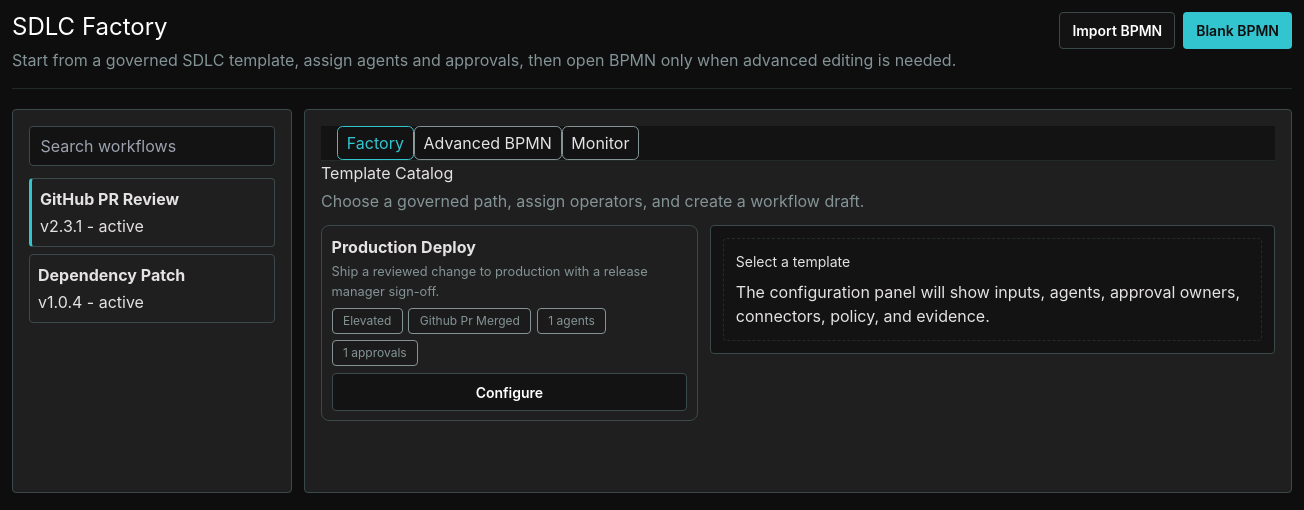
Test case: WorkflowDesigner integration › renders workflows and filters by search query
Check: the heading "SDLC Factory" is shown, box [12, 12, 168, 41]
Check: the text "GitHub PR Review" is shown, box [40, 189, 179, 209]
Type "dependency" into the search field with placeholder "Search workflows" at point(152, 146), box [29, 126, 275, 166]
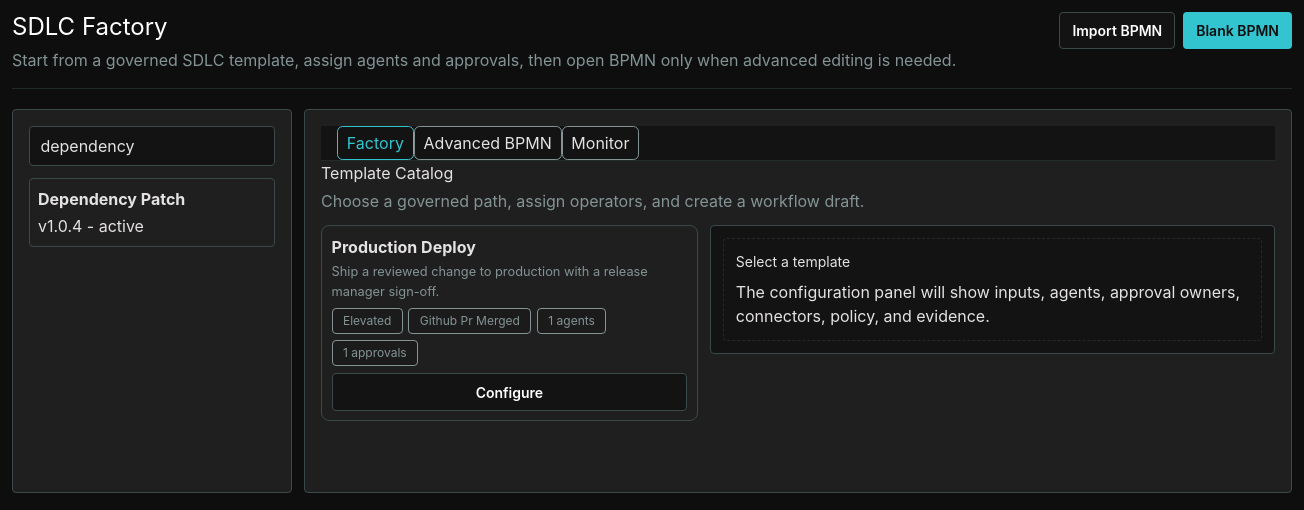
Check: the text "Dependency Patch" is shown, box [38, 189, 185, 209]
Check: the number of buttons "Dependency Patch v1.0.4 - active" is 1, box [29, 178, 275, 247]
